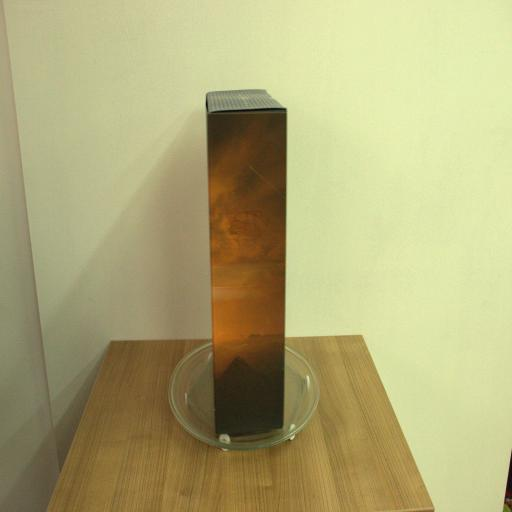superman: (206, 89, 287, 438)
